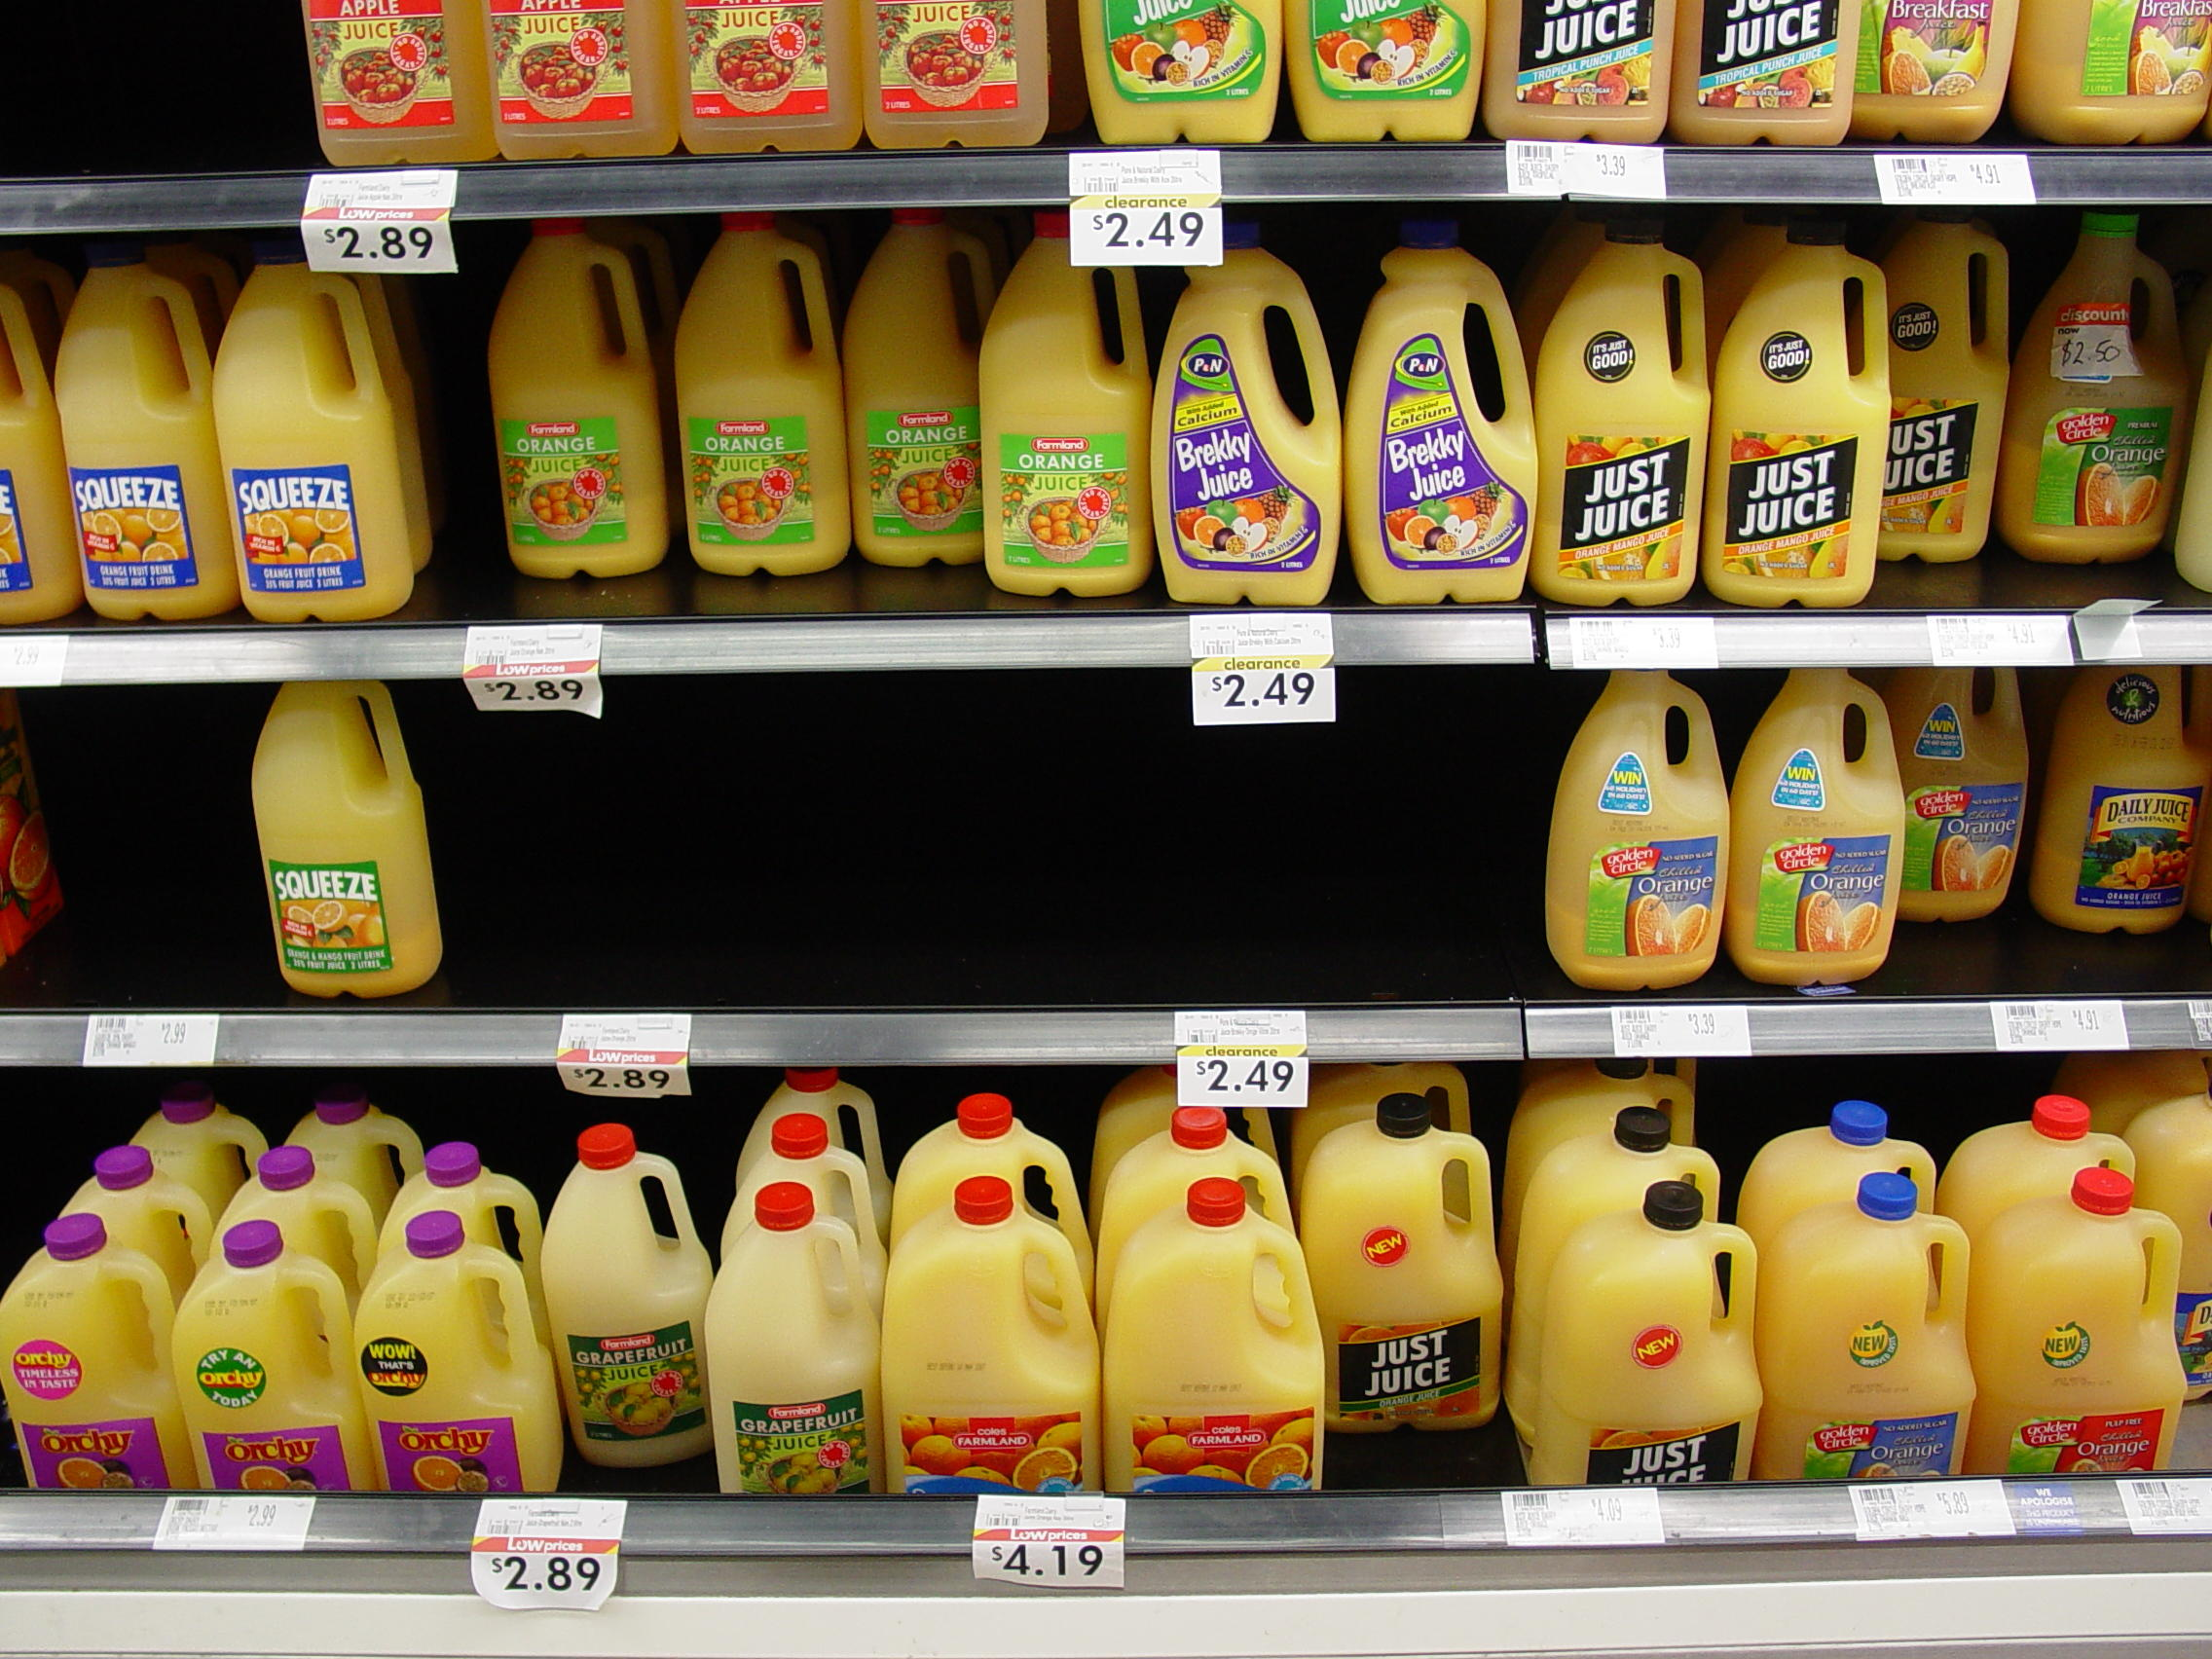Out-of-stock: (435, 669, 1540, 1009), (44, 690, 258, 1021)
